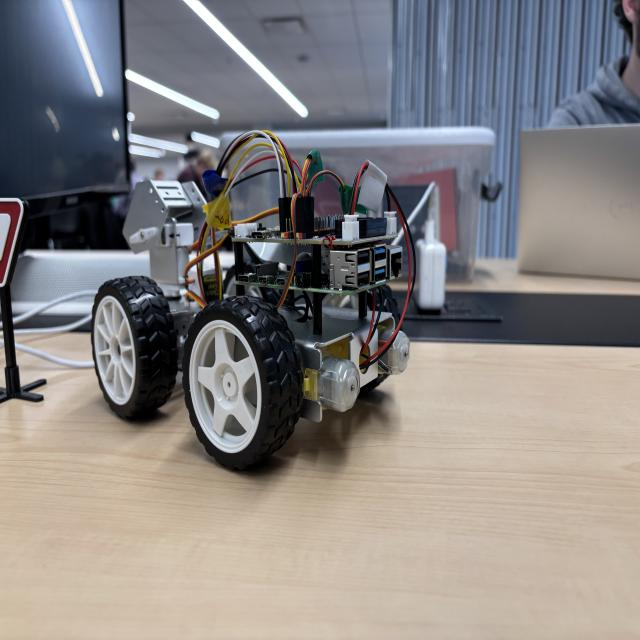vehicle: (87, 127, 414, 471)
